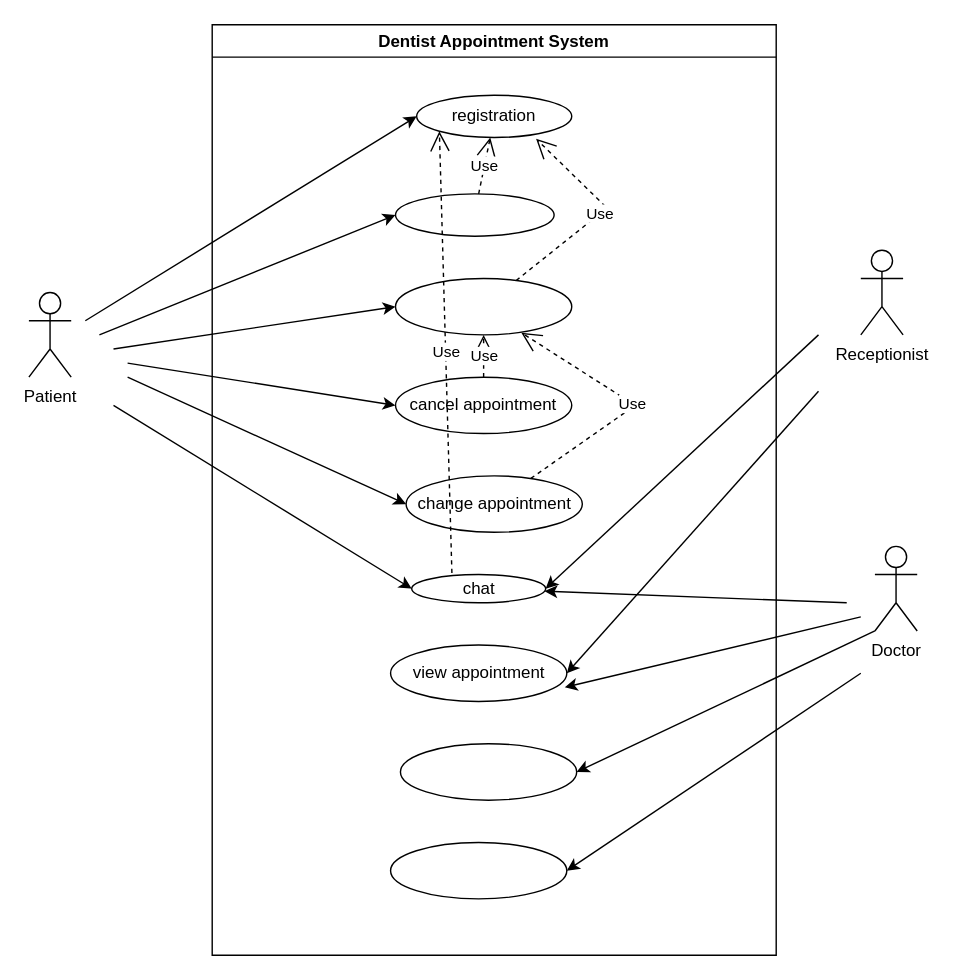
Image size: 953x980. Some labels were removed from this diagram. Here are the shapes that lost their labels. From the top down, the centre of each, then its label:
At point (474, 214): "check slots".
At point (483, 306): "reserve appointment".
At point (488, 771): "approve appointment".
At point (478, 870): "reject appointment".
